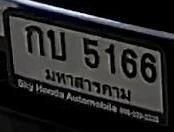number: (21, 20, 159, 83)
province: (42, 66, 132, 102)
